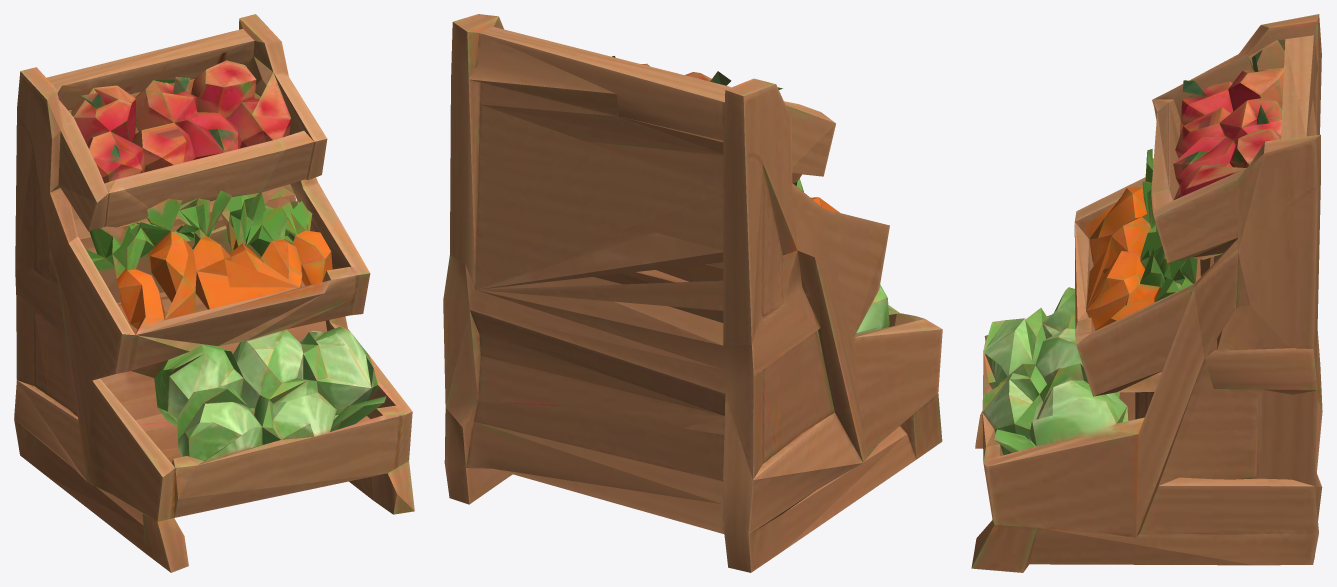
The model's file is shop-produce-stand.glb.
3 renders of one model, left to right at view 1: azimuth 30°, elevation 25°; view 2: azimuth 150°, elevation 25°; view 3: azimuth 270°, elevation 25°, orthographic. The views are drawn at different scales.
Parts seen in each view (by area): view 1: shop-produce-stand-fit; view 2: shop-produce-stand-fit; view 3: shop-produce-stand-fit.
Part boxes in pixels (left/top/right/bottom): shop-produce-stand-fit: left=14, top=14, right=414, bottom=572; shop-produce-stand-fit: left=443, top=14, right=942, bottom=572; shop-produce-stand-fit: left=971, top=14, right=1322, bottom=572.
Bounding box in the file's own units: 1.34 × 1.9 × 1.4.
1 material, 1 textured.
